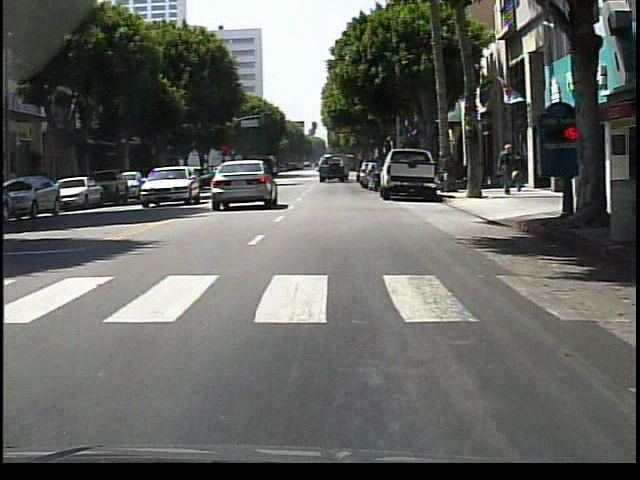person: (498, 144, 518, 198), (513, 149, 528, 193), (232, 159, 244, 202)
